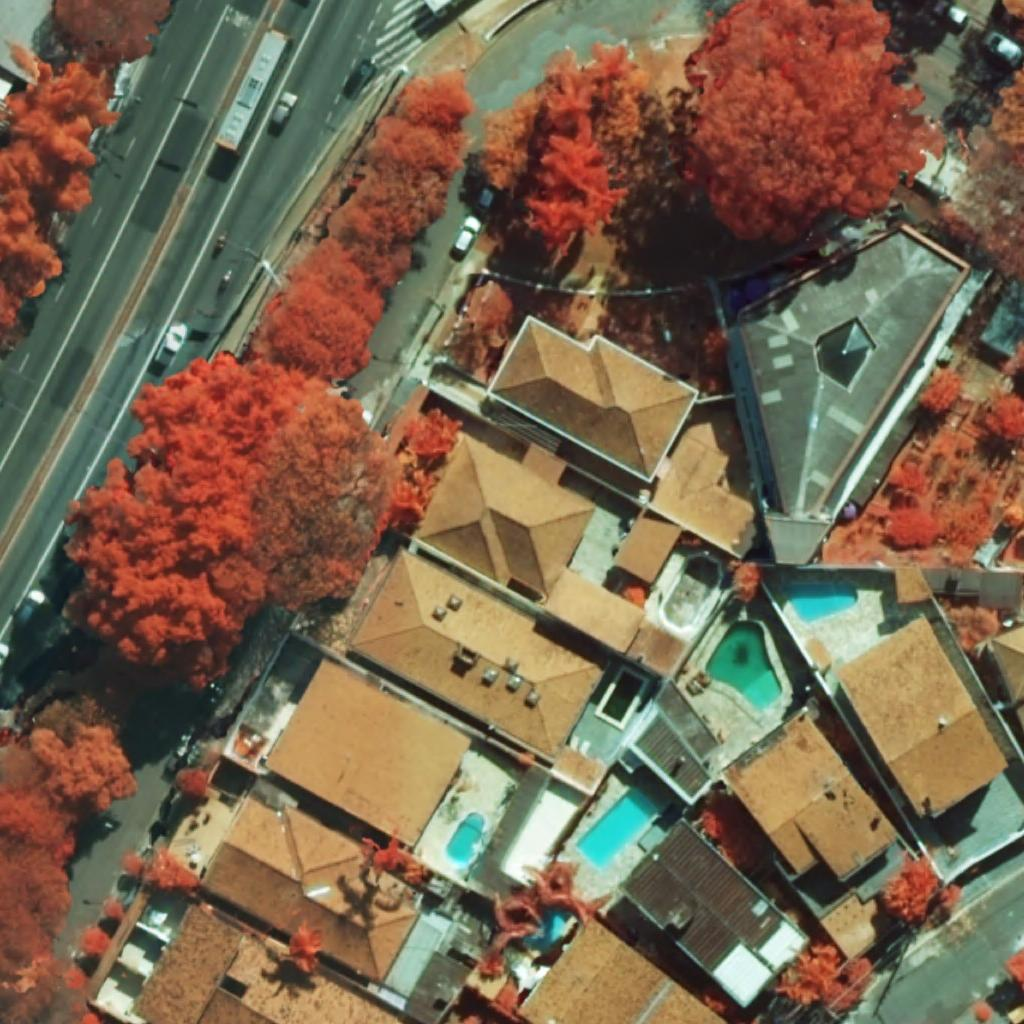pool: (706, 620, 782, 711), (575, 788, 658, 870), (784, 584, 858, 623), (447, 812, 484, 863)
